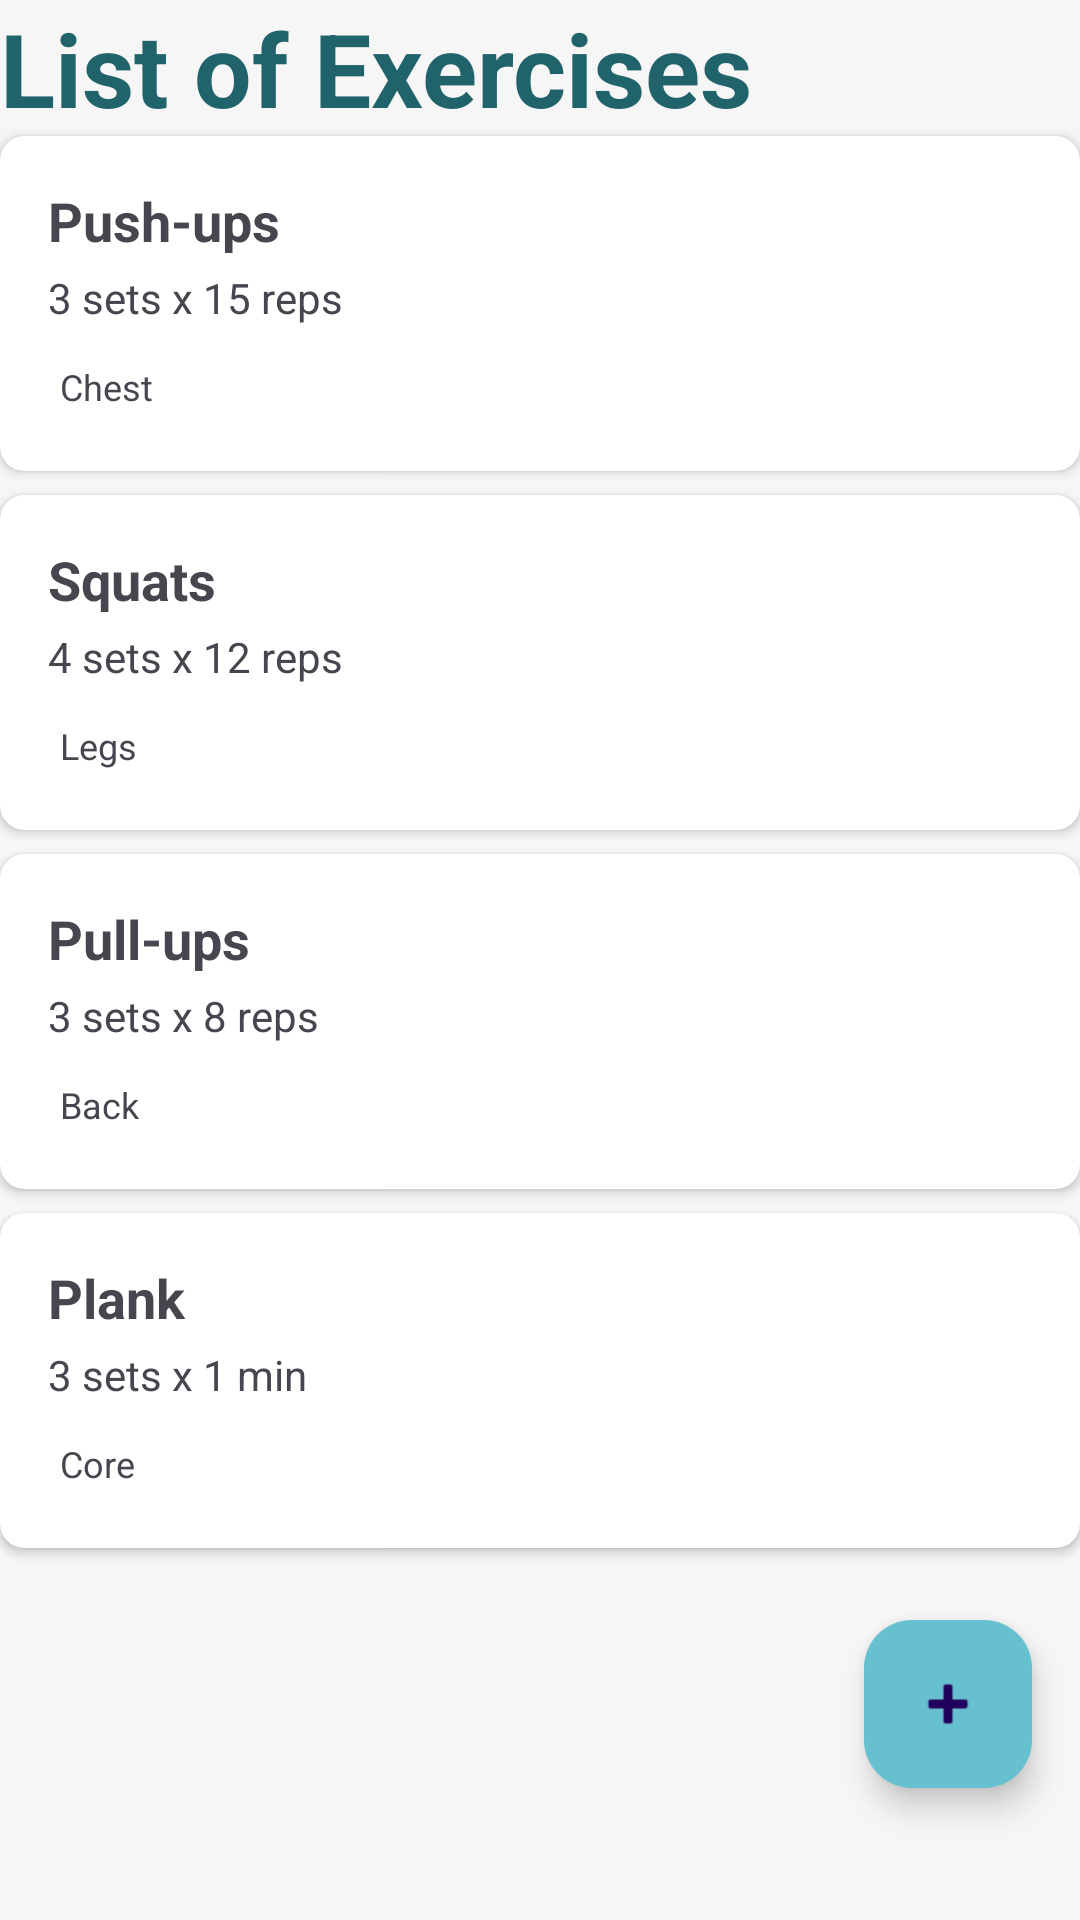

Point at icon controls on the screen. Image size 1080*1920, points as (x,y).
Add exercise: (948,1704)
